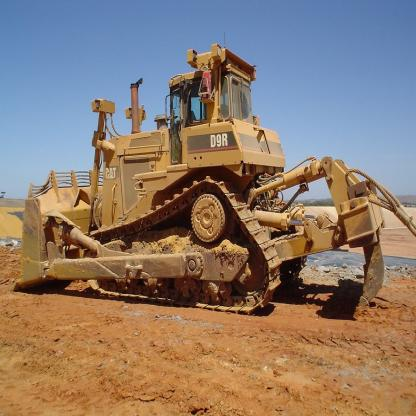bull_dozer/loader/grader: (13, 42, 389, 329)
